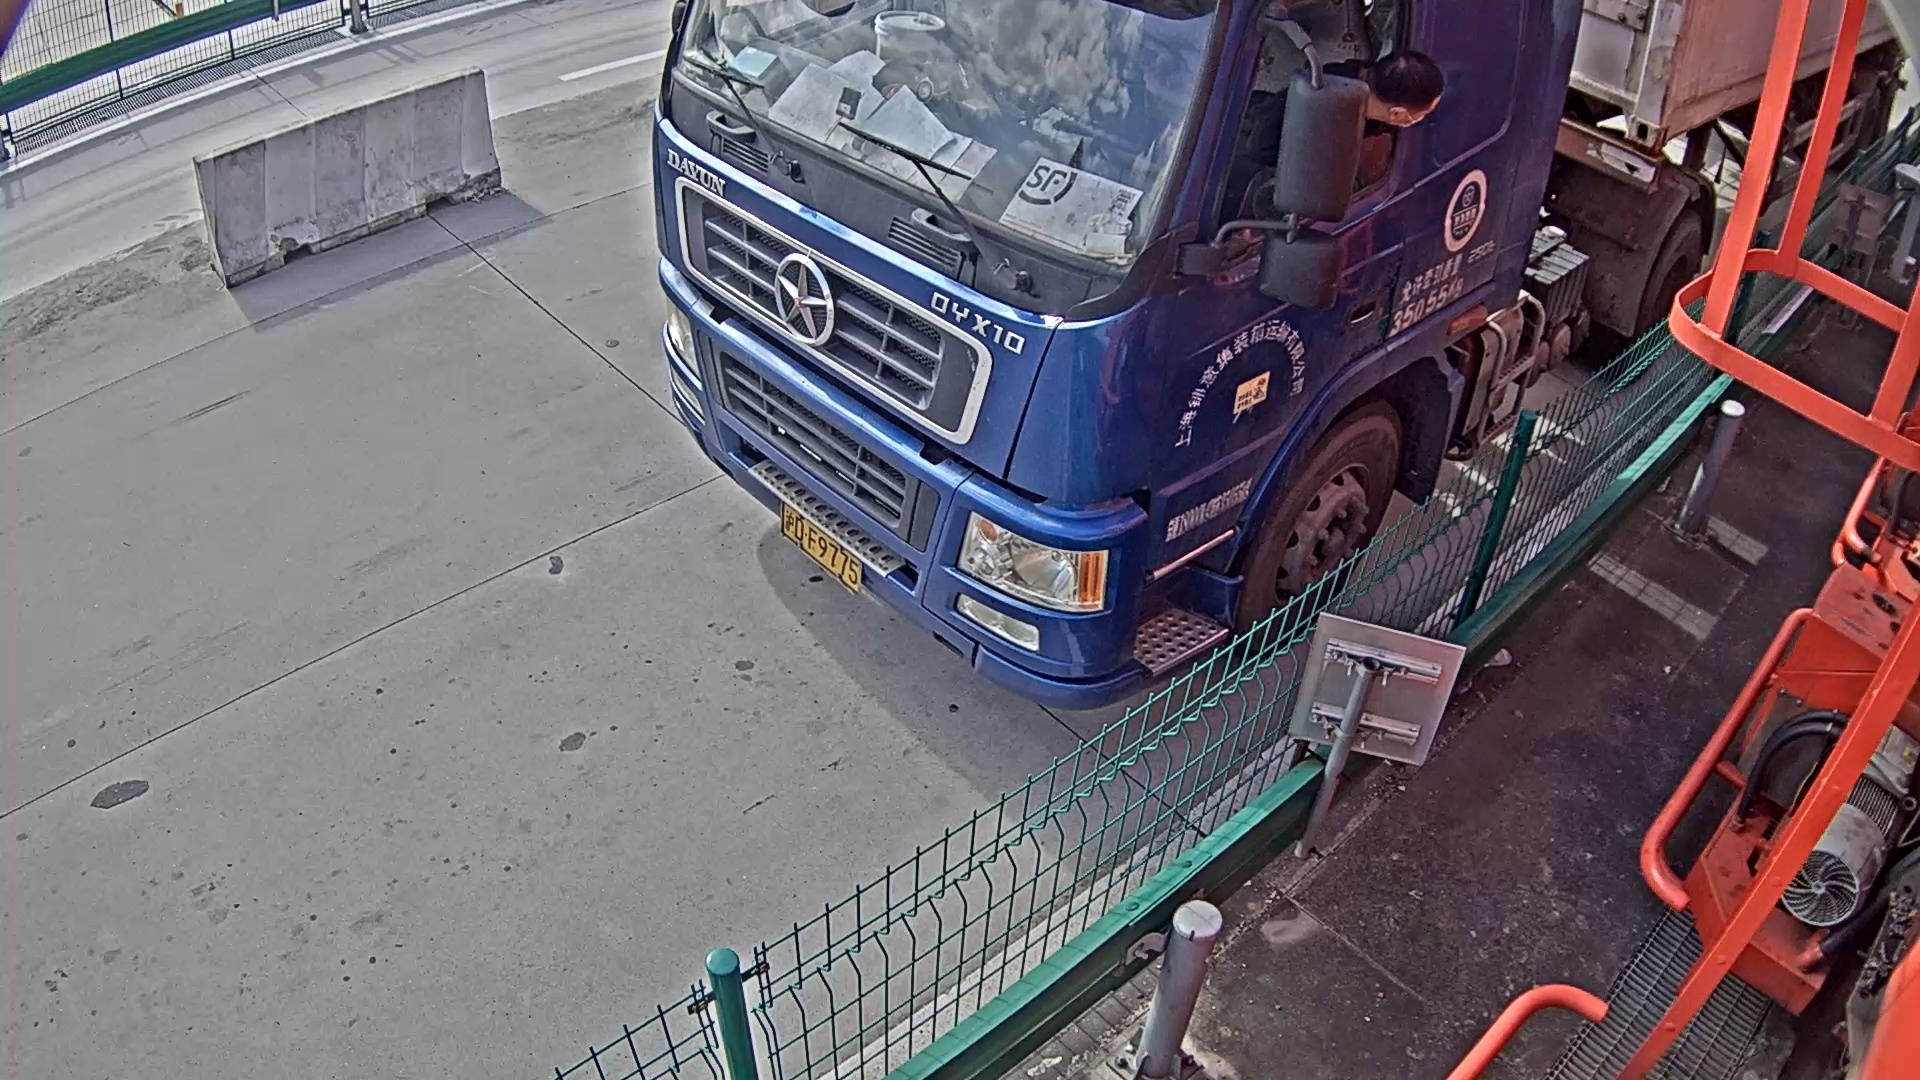head: (652, 1, 1565, 683)
plate: (770, 496, 869, 595)
